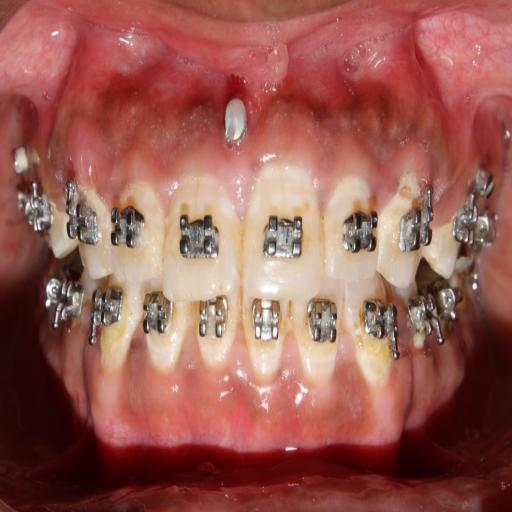correct_brace: (258, 206, 309, 268), (175, 208, 226, 264), (106, 205, 152, 255), (338, 206, 379, 255)
incorrect_brace: (104, 172, 164, 287), (324, 169, 381, 285)
